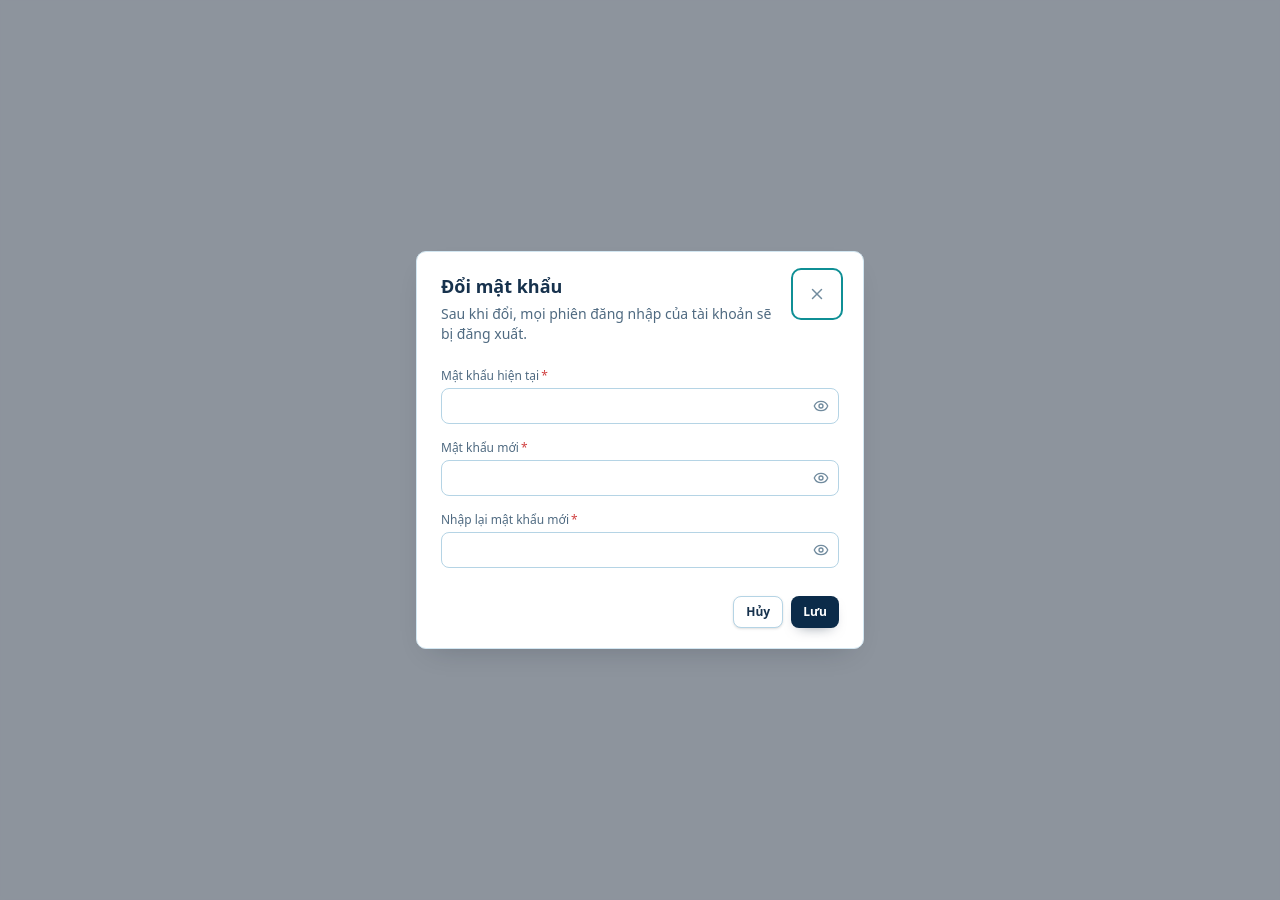
it: ChangePasswordDialog › AC-2: refuses an empty current password
Type "Mat-khau-moi-2" into the password field labelled "Mật khẩu mới*" at point(640, 478), box [441, 460, 839, 496]
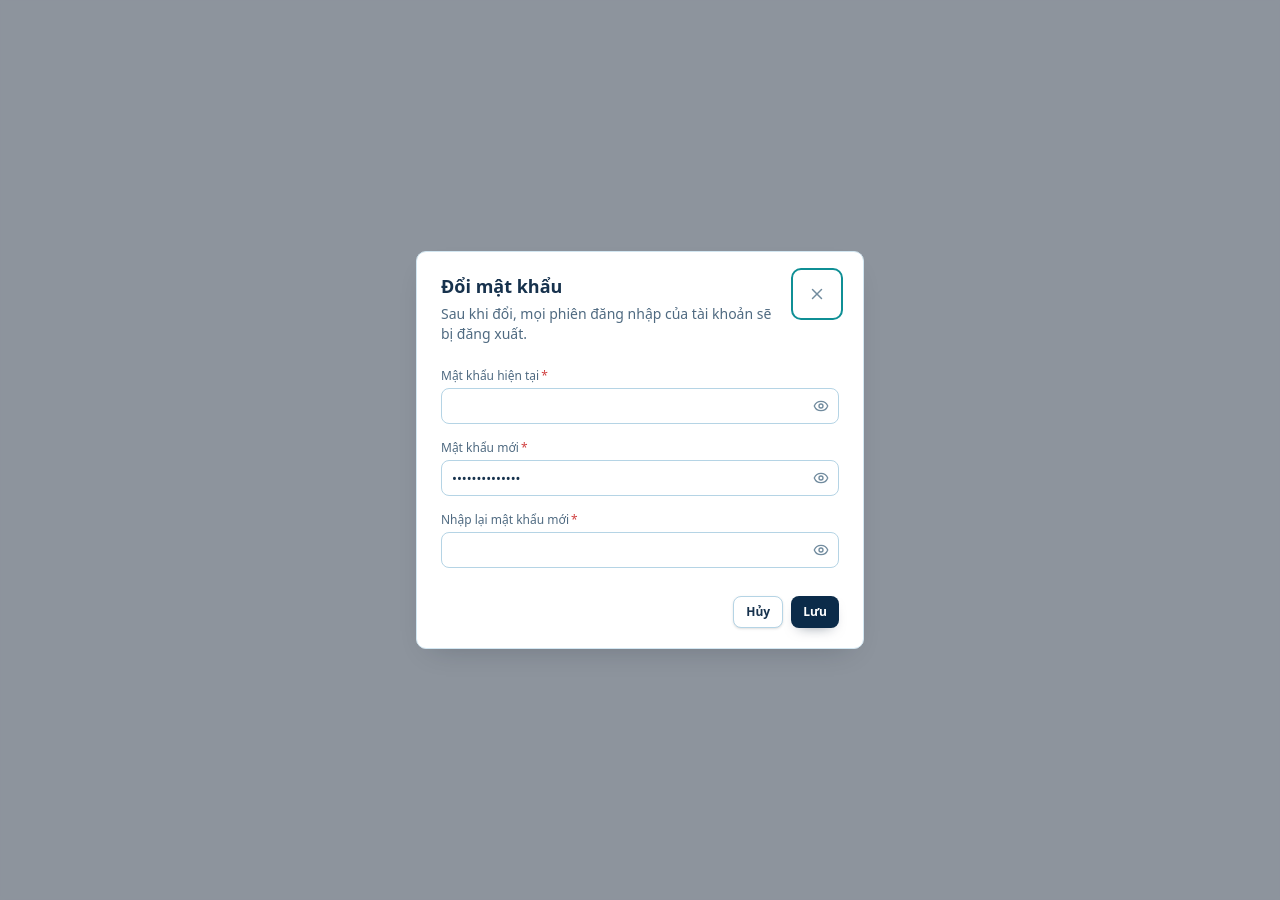
Type "Mat-khau-moi-2" into the password field labelled "Nhập lại mật khẩu mới*" at point(640, 550), box [441, 532, 839, 568]
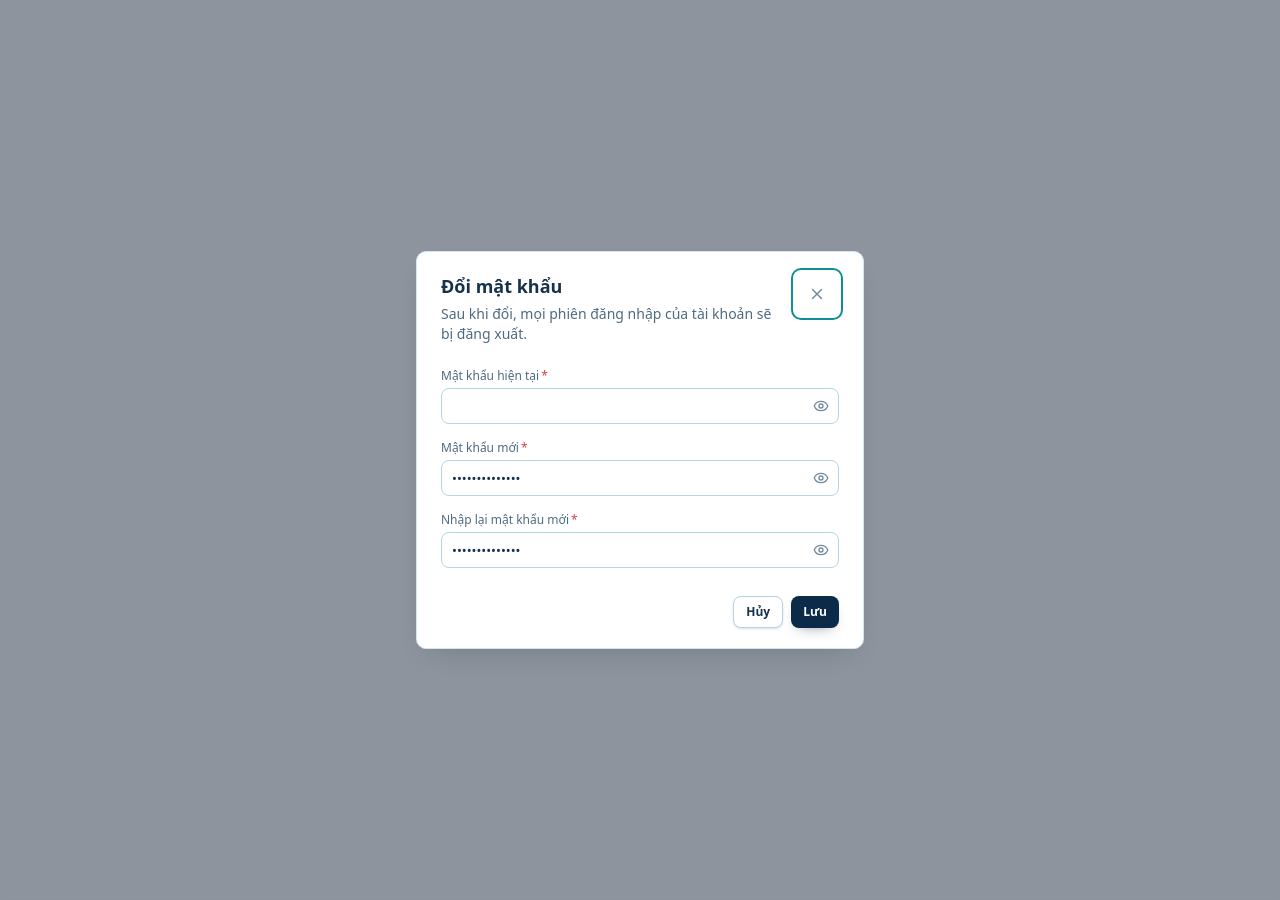
Click the button "Lưu" at point(815, 612), box [791, 596, 839, 628]
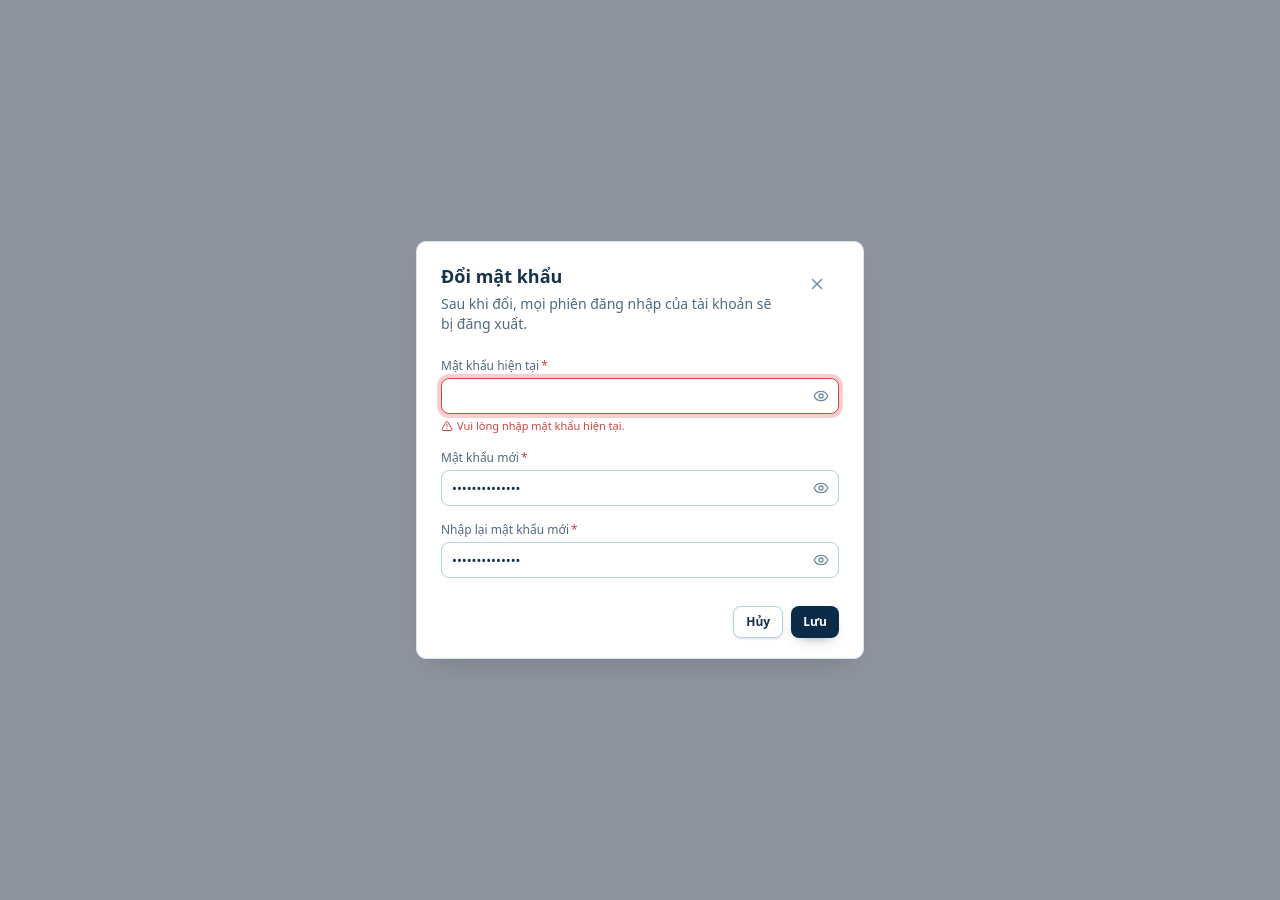
Expected: the text "Vui lòng nhập mật khẩu hiện tại." is shown, [441, 418, 624, 433]
